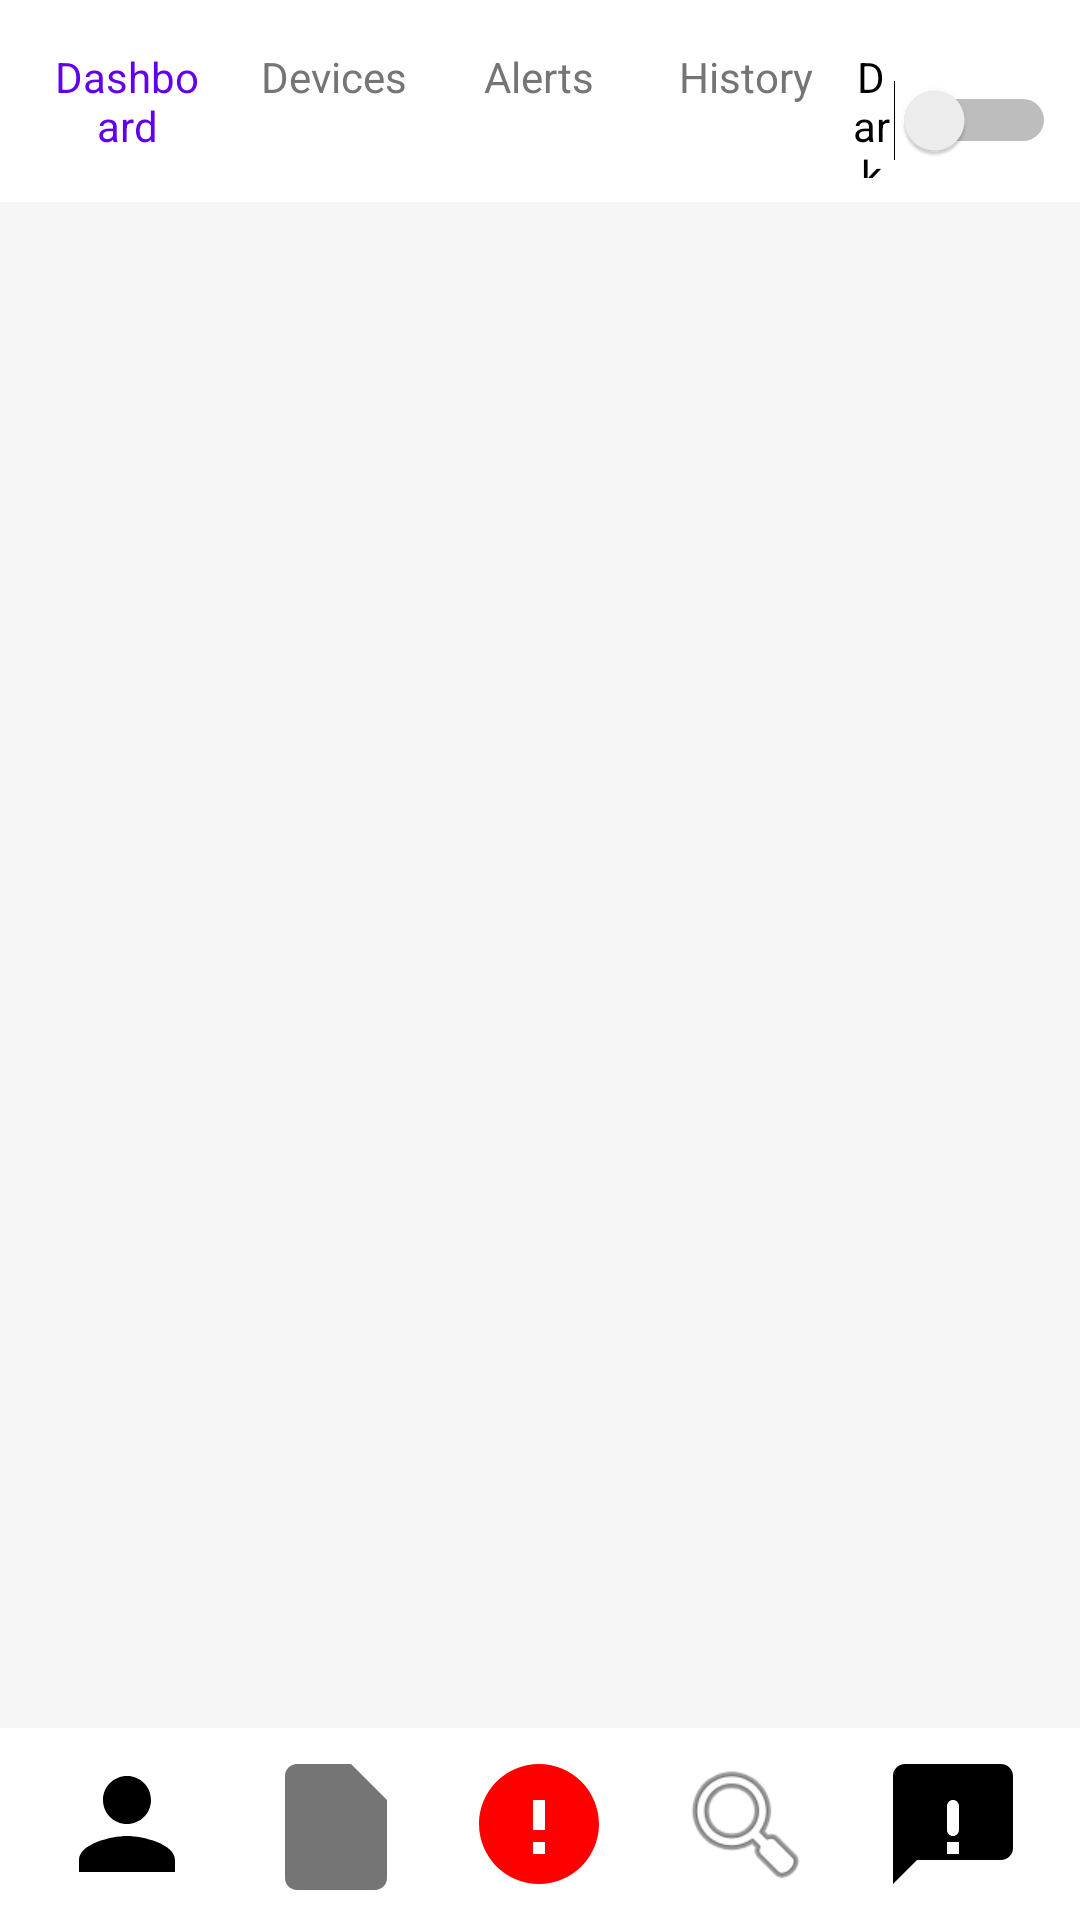

Where to tap for icons on this 1080w x 1920h app screen, as [x,y]:
Chat: [953,1824]
Notifications: [539,1824]
Profile: [127,1824]
Search: [745,1824]
